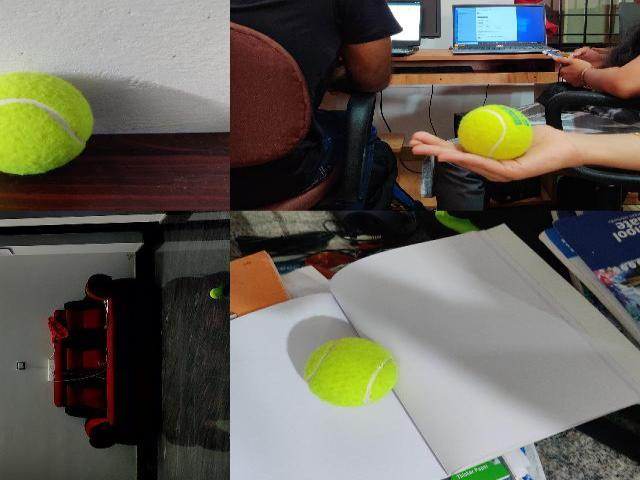tennis-ball: (0, 71, 94, 176), (303, 337, 397, 407), (458, 104, 532, 158), (208, 288, 224, 299)
